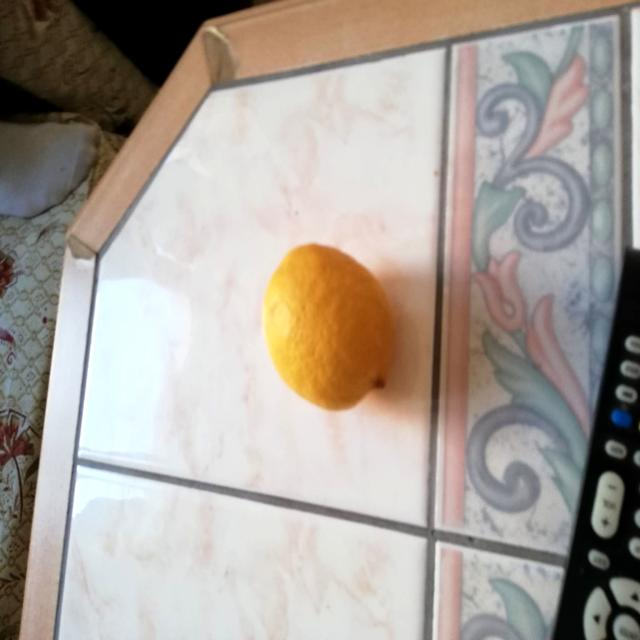lemon: (258, 232, 402, 415)
